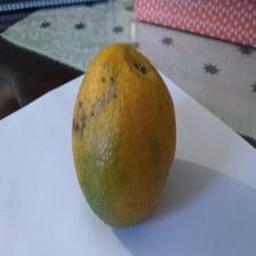Orange Semirotten: (55, 30, 178, 226)
